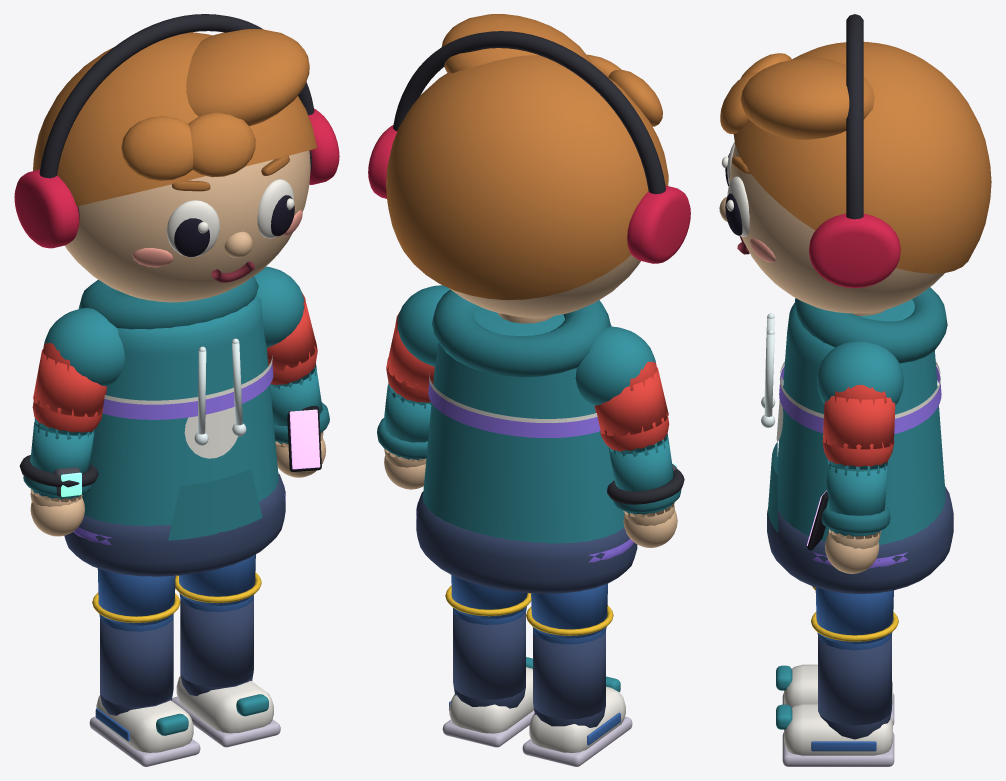
The model's file is ch_hero_m_1.fbx.
The picture shows the model from 3 angles, left to right: view 1: azimuth 30°, elevation 25°; view 2: azimuth 150°, elevation 25°; view 3: azimuth 270°, elevation 25°; orthographic projection.
Parts seen in each view (by area): view 1: ch_hero_m_1__base, ch_hero_m_1__top_default, ch_hero_m_1__pants_default, ch_hero_m_1__acc_headphones, ch_hero_m_1__shoes_default, ch_hero_m_1__top_tshirt, ch_hero_m_1__pants_jeans, ch_hero_m_1__top_hoodie, ch_hero_m_1__acc_smartphone, ch_hero_m_1__acc_watch; view 2: ch_hero_m_1__base, ch_hero_m_1__top_default, ch_hero_m_1__pants_default, ch_hero_m_1__acc_headphones, ch_hero_m_1__top_tshirt, ch_hero_m_1__shoes_default, ch_hero_m_1__pants_jeans, ch_hero_m_1__top_hoodie, ch_hero_m_1__acc_watch; view 3: ch_hero_m_1__base, ch_hero_m_1__top_default, ch_hero_m_1__pants_default, ch_hero_m_1__acc_headphones, ch_hero_m_1__shoes_default, ch_hero_m_1__top_tshirt, ch_hero_m_1__pants_jeans, ch_hero_m_1__top_hoodie, ch_hero_m_1__shoes_sneakers, ch_hero_m_1__acc_smartphone.
Boxes of the visible parts, x1,y1,x2,y2 form: ch_hero_m_1__base: (30, 29, 325, 536); ch_hero_m_1__top_default: (23, 266, 329, 540); ch_hero_m_1__pants_default: (64, 473, 285, 715); ch_hero_m_1__acc_headphones: (14, 14, 339, 248); ch_hero_m_1__shoes_default: (89, 675, 280, 766); ch_hero_m_1__top_tshirt: (30, 292, 323, 506); ch_hero_m_1__pants_jeans: (92, 554, 261, 631); ch_hero_m_1__top_hoodie: (73, 355, 285, 545); ch_hero_m_1__acc_smartphone: (287, 405, 321, 471); ch_hero_m_1__acc_watch: (19, 455, 98, 497); ch_hero_m_1__base: (384, 14, 677, 547); ch_hero_m_1__top_default: (377, 285, 681, 543); ch_hero_m_1__pants_default: (416, 491, 637, 727); ch_hero_m_1__acc_headphones: (368, 31, 690, 263); ch_hero_m_1__top_tshirt: (384, 311, 674, 526); ch_hero_m_1__shoes_default: (442, 657, 632, 766); ch_hero_m_1__pants_jeans: (445, 575, 613, 644); ch_hero_m_1__top_hoodie: (416, 374, 633, 562); ch_hero_m_1__acc_watch: (607, 463, 684, 504); ch_hero_m_1__base: (719, 41, 991, 573); ch_hero_m_1__top_default: (761, 287, 947, 544); ch_hero_m_1__pants_default: (767, 486, 953, 739); ch_hero_m_1__acc_headphones: (809, 14, 900, 287); ch_hero_m_1__shoes_default: (776, 664, 894, 766); ch_hero_m_1__top_tshirt: (776, 376, 895, 549); ch_hero_m_1__pants_jeans: (811, 586, 898, 650); ch_hero_m_1__top_hoodie: (779, 361, 941, 568); ch_hero_m_1__shoes_sneakers: (811, 741, 876, 751); ch_hero_m_1__acc_smartphone: (807, 490, 828, 550).
Size of the model in its own units: 0.6345 by 1.43 by 0.4999.
